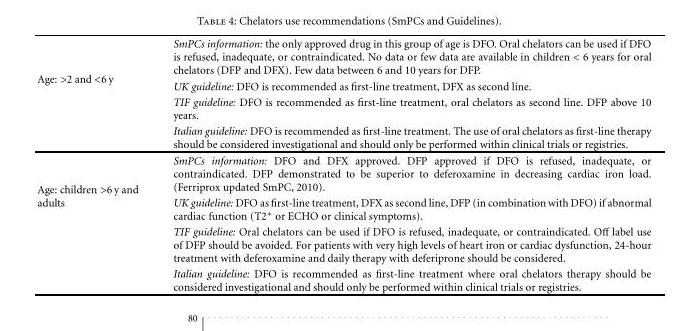table: (36, 37, 650, 292)
table column: (155, 37, 650, 292), (36, 37, 155, 292)
table row: (36, 152, 650, 194), (36, 223, 650, 265), (36, 37, 650, 77), (36, 122, 650, 152), (36, 93, 650, 122), (36, 194, 650, 223), (36, 265, 650, 292), (36, 77, 650, 93)
table spanning cell: (36, 152, 155, 292), (36, 37, 155, 152)
